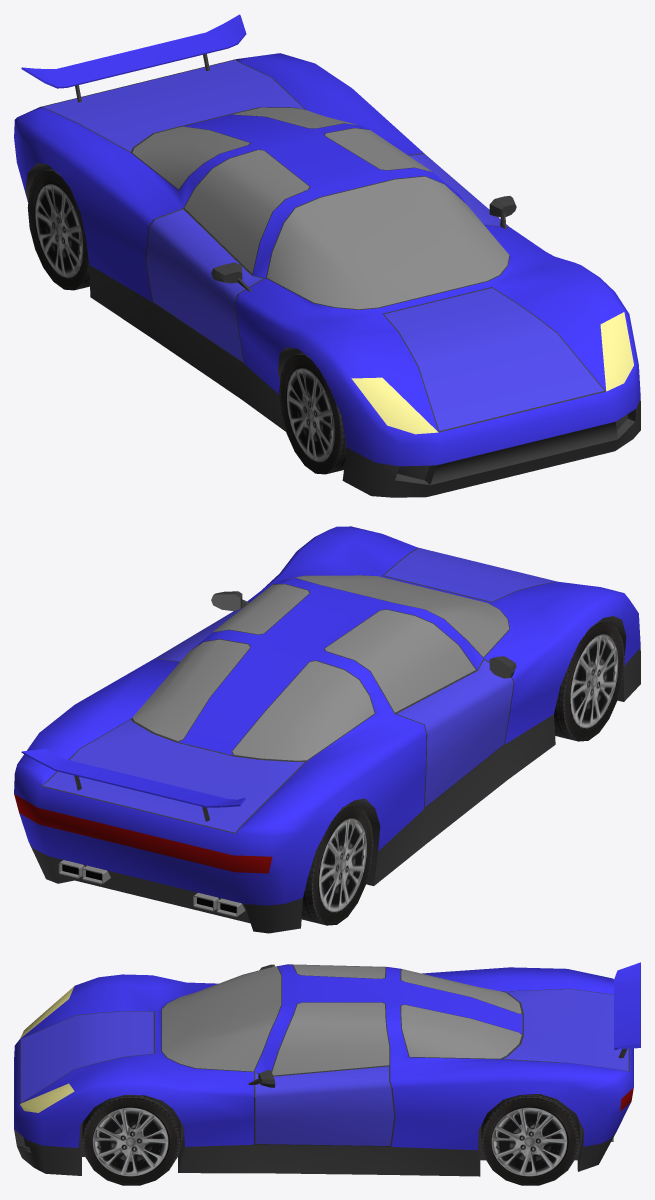
Rendered from Car 15.FBX.
3 renders of one model, top to bottom at view 1: azimuth 30°, elevation 25°; view 2: azimuth 150°, elevation 25°; view 3: azimuth 270°, elevation 25°, orthographic. The views are drawn at different scales.
Parts seen in each view (by area): view 1: Car 15; view 2: Car 15; view 3: Car 15.
Boxes of the visible parts, x1,y1,x2,y2 form: Car 15: (14, 14, 640, 497); Car 15: (14, 526, 640, 933); Car 15: (14, 962, 640, 1185).
Bounding box in the file's own units: 2.14 × 1.22 × 4.88.
